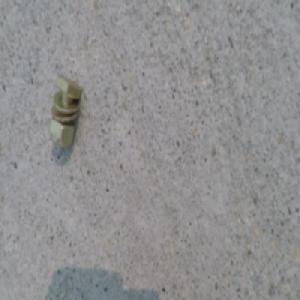BoltNutSet: (50, 80, 82, 151)
